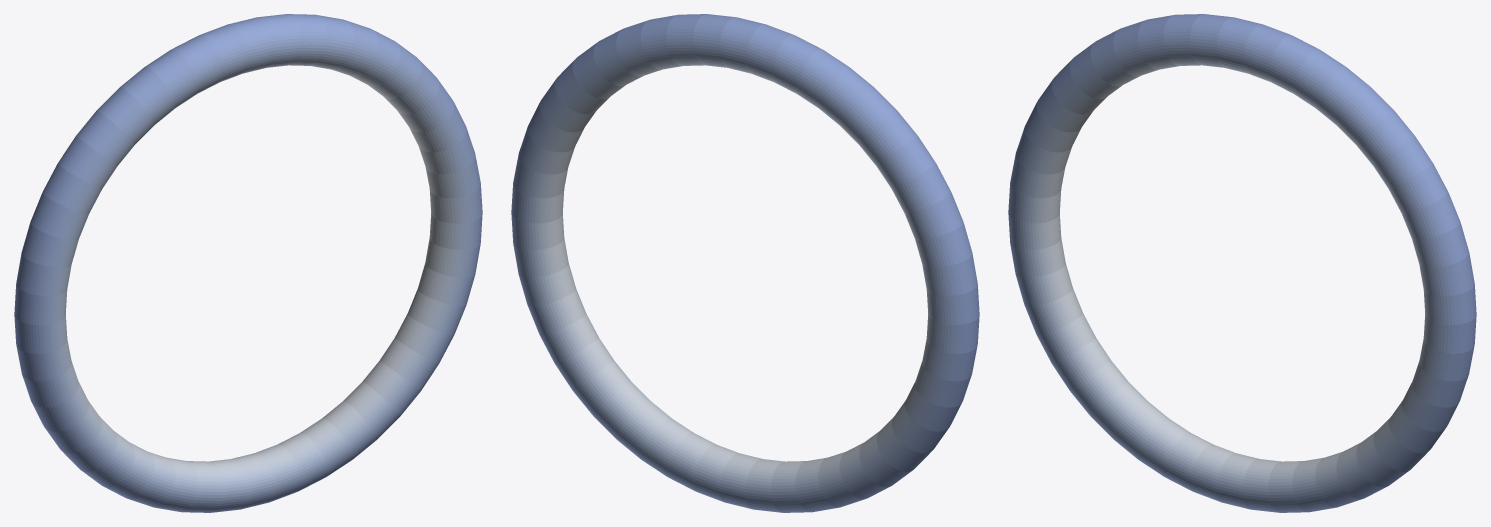
3 views of the same model, side by side, from view 1: azimuth 30°, elevation 25°; view 2: azimuth 150°, elevation 25°; view 3: azimuth 330°, elevation 25° (orthographic).
Visible parts, largest first — view 1: world; view 2: world; view 3: world.
Part boxes in pixels (x1,y1,x2,y2): world: [14, 14, 482, 512]; world: [511, 14, 979, 512]; world: [1008, 14, 1476, 512].
Size of the model in its own units: 31.73 by 31.67 by 3.06.
